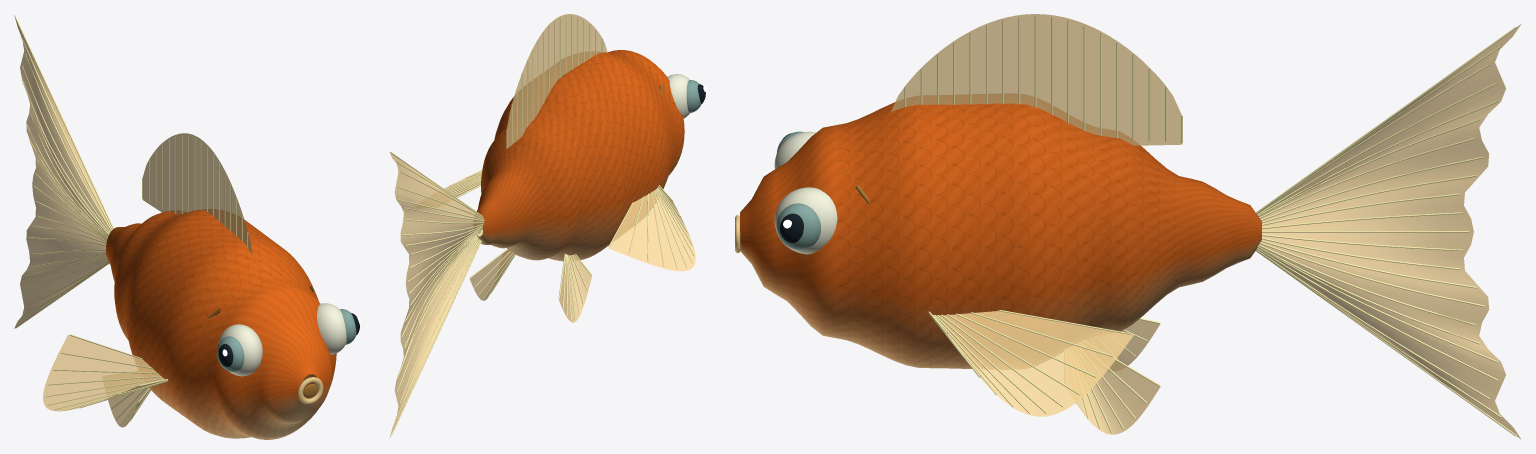
Rendered from goldfish-v2.glb.
The picture shows the model from 3 angles, left to right: view 1: azimuth 30°, elevation 25°; view 2: azimuth 150°, elevation 25°; view 3: azimuth 270°, elevation 25°; orthographic projection. The views are drawn at different scales.
Parts seen in each view (by area): view 1: Body, TailPivot membrane, DorsalPivot membrane, PectoralPivot-1 membrane, Eye sclera, Eye sclera.001, VentralPivot-1 membrane, Iris, TailPivot ray.022, TailPivot ray.021, Mouth rim, TailPivot ray.020 (+1 smaller); view 2: Body, TailPivot membrane, DorsalPivot membrane, PectoralPivot-1 membrane, VentralPivot-1 membrane, VentralPivot1 membrane, Eye sclera, PectoralPivot1 membrane, Iris, TailPivot ray, TailPivot ray.001, TailPivot ray.002; view 3: Body, TailPivot membrane, DorsalPivot membrane, PectoralPivot1 membrane, VentralPivot1 membrane, Eye sclera.001, Iris.001, VentralPivot-1 membrane.
Boxes of the visible parts, left/top/right/bottom form: Body: left=106, top=209, right=336, bottom=439; TailPivot membrane: left=14, top=15, right=111, bottom=328; DorsalPivot membrane: left=142, top=133, right=252, bottom=254; PectoralPivot-1 membrane: left=43, top=334, right=165, bottom=411; Eye sclera: left=218, top=324, right=262, bottom=376; Eye sclera.001: left=317, top=303, right=346, bottom=354; VentralPivot-1 membrane: left=108, top=387, right=150, bottom=427; Iris: left=217, top=336, right=244, bottom=371; TailPivot ray.022: left=15, top=18, right=113, bottom=228; TailPivot ray.021: left=21, top=37, right=112, bottom=229; Mouth rim: left=298, top=377, right=323, bottom=403; TailPivot ray.020: left=25, top=54, right=111, bottom=231; Body: left=474, top=50, right=684, bottom=261; TailPivot membrane: left=389, top=152, right=483, bottom=438; DorsalPivot membrane: left=507, top=14, right=607, bottom=148; PectoralPivot-1 membrane: left=608, top=187, right=695, bottom=271; VentralPivot-1 membrane: left=559, top=254, right=591, bottom=322; VentralPivot1 membrane: left=469, top=250, right=514, bottom=300; Eye sclera: left=667, top=74, right=689, bottom=118; PectoralPivot1 membrane: left=444, top=170, right=482, bottom=196; Iris: left=686, top=80, right=701, bottom=112; TailPivot ray: left=391, top=240, right=481, bottom=435; TailPivot ray.001: left=395, top=240, right=480, bottom=418; TailPivot ray.002: left=400, top=233, right=482, bottom=402; Body: left=740, top=94, right=1261, bottom=369; TailPivot membrane: left=1257, top=23, right=1521, bottom=439; DorsalPivot membrane: left=891, top=14, right=1182, bottom=145; PectoralPivot1 membrane: left=937, top=311, right=1133, bottom=416; VentralPivot1 membrane: left=1076, top=360, right=1160, bottom=434; Eye sclera.001: left=774, top=187, right=837, bottom=254; Iris.001: left=776, top=203, right=820, bottom=249; VentralPivot-1 membrane: left=1117, top=319, right=1160, bottom=365.
Size of the model in its own units: 1.7 by 1.77 by 2.95.
9 materials, 1 textured.
